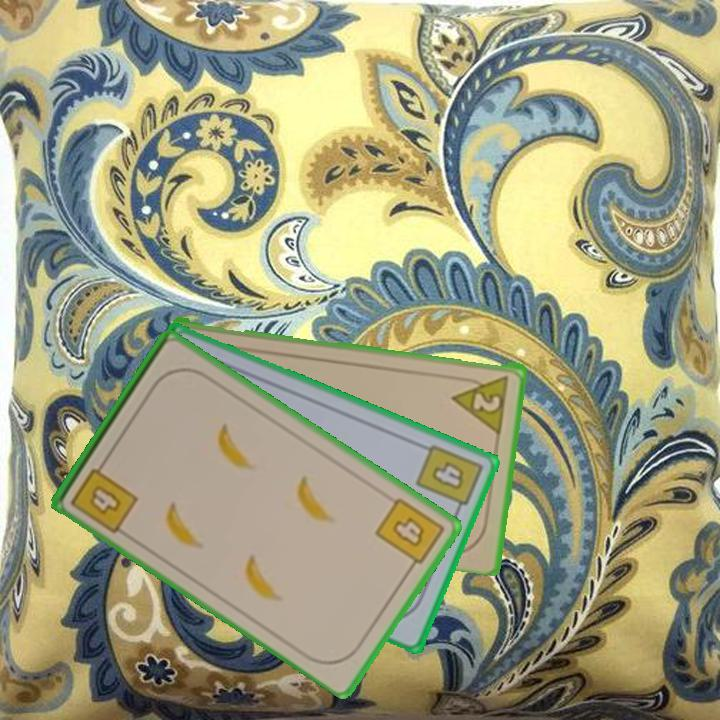2p: (449, 371, 512, 434)
4b: (372, 494, 448, 575), (67, 454, 141, 537), (412, 440, 486, 519)
